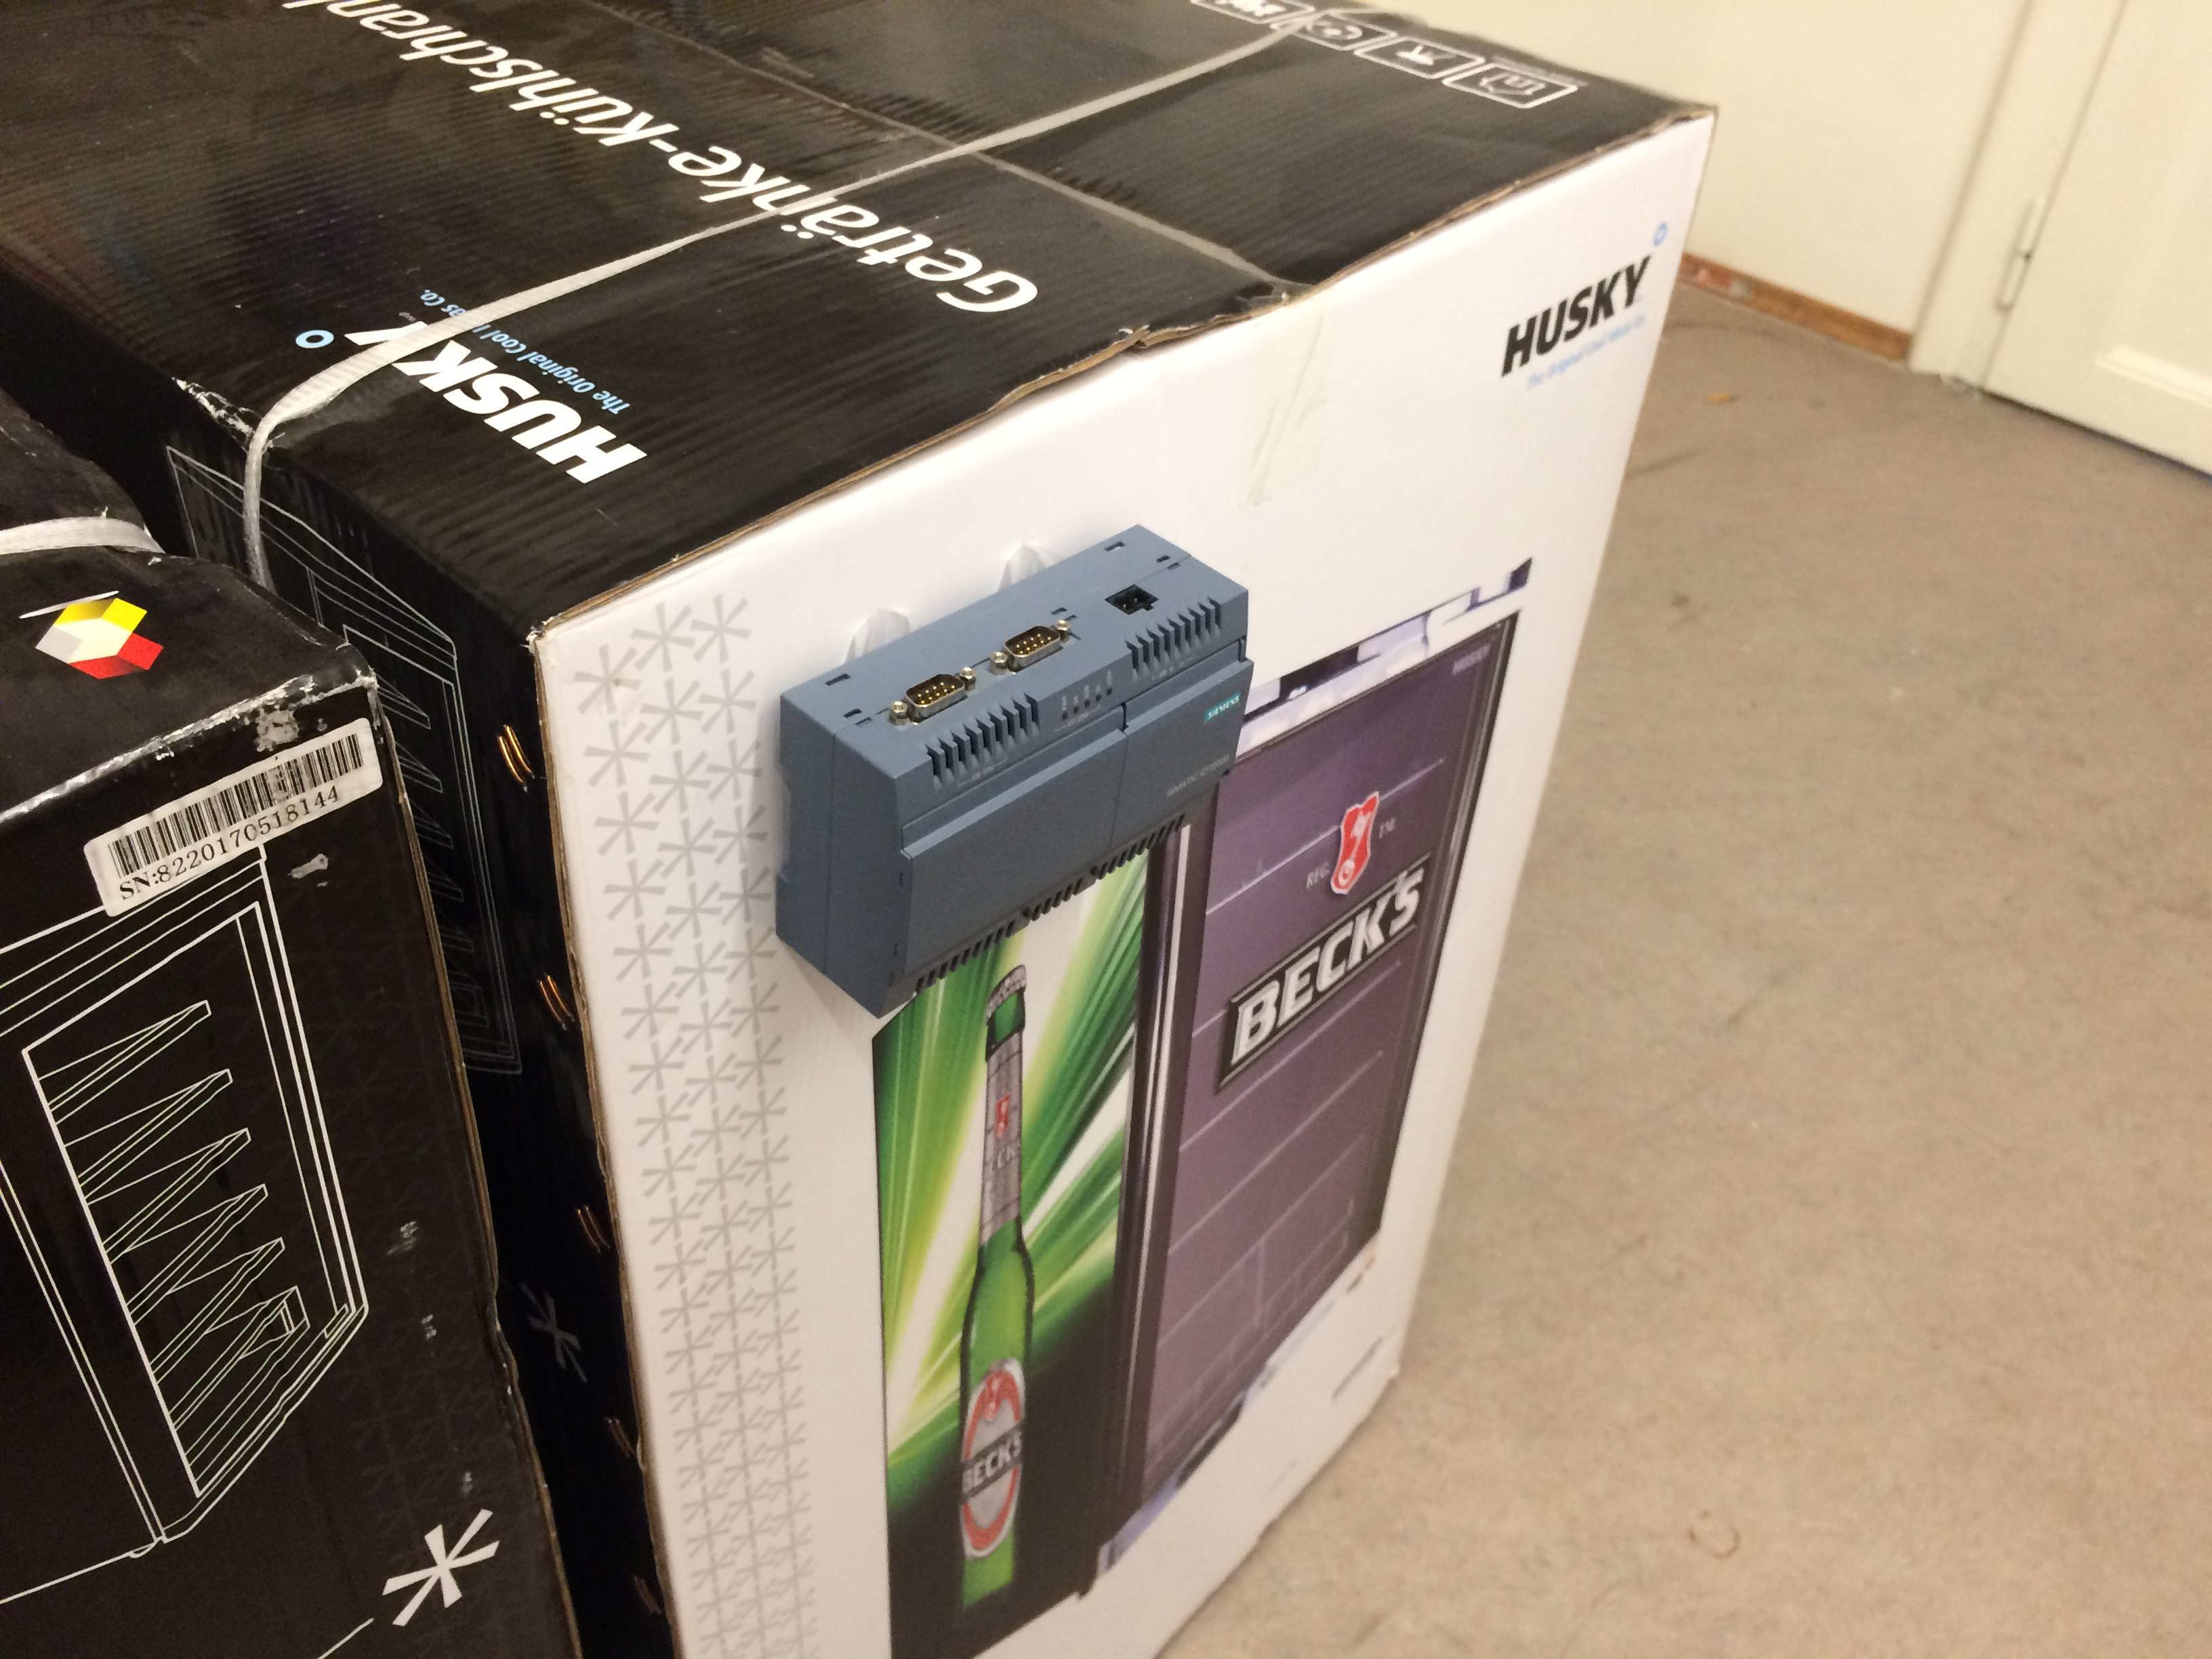iot2000: (772, 519, 1258, 1021)
